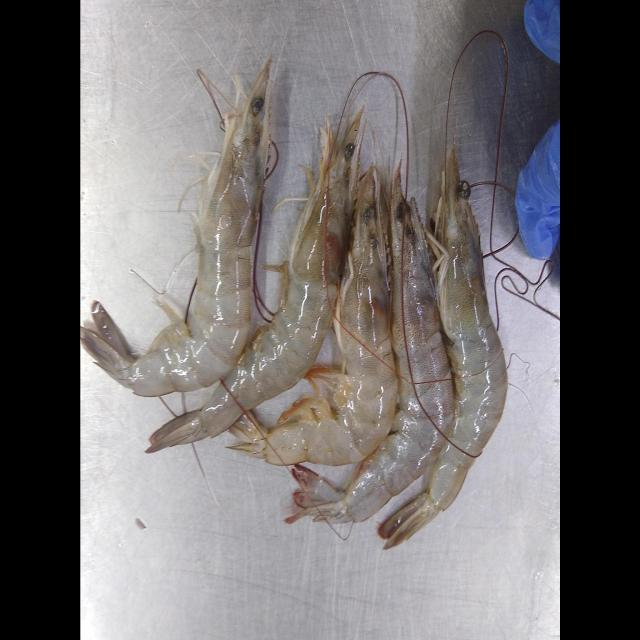shrimp: (146, 108, 364, 454), (80, 59, 271, 397), (286, 165, 455, 525), (379, 146, 509, 550), (229, 167, 397, 466)
